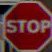Stop: (3, 2, 48, 43)
